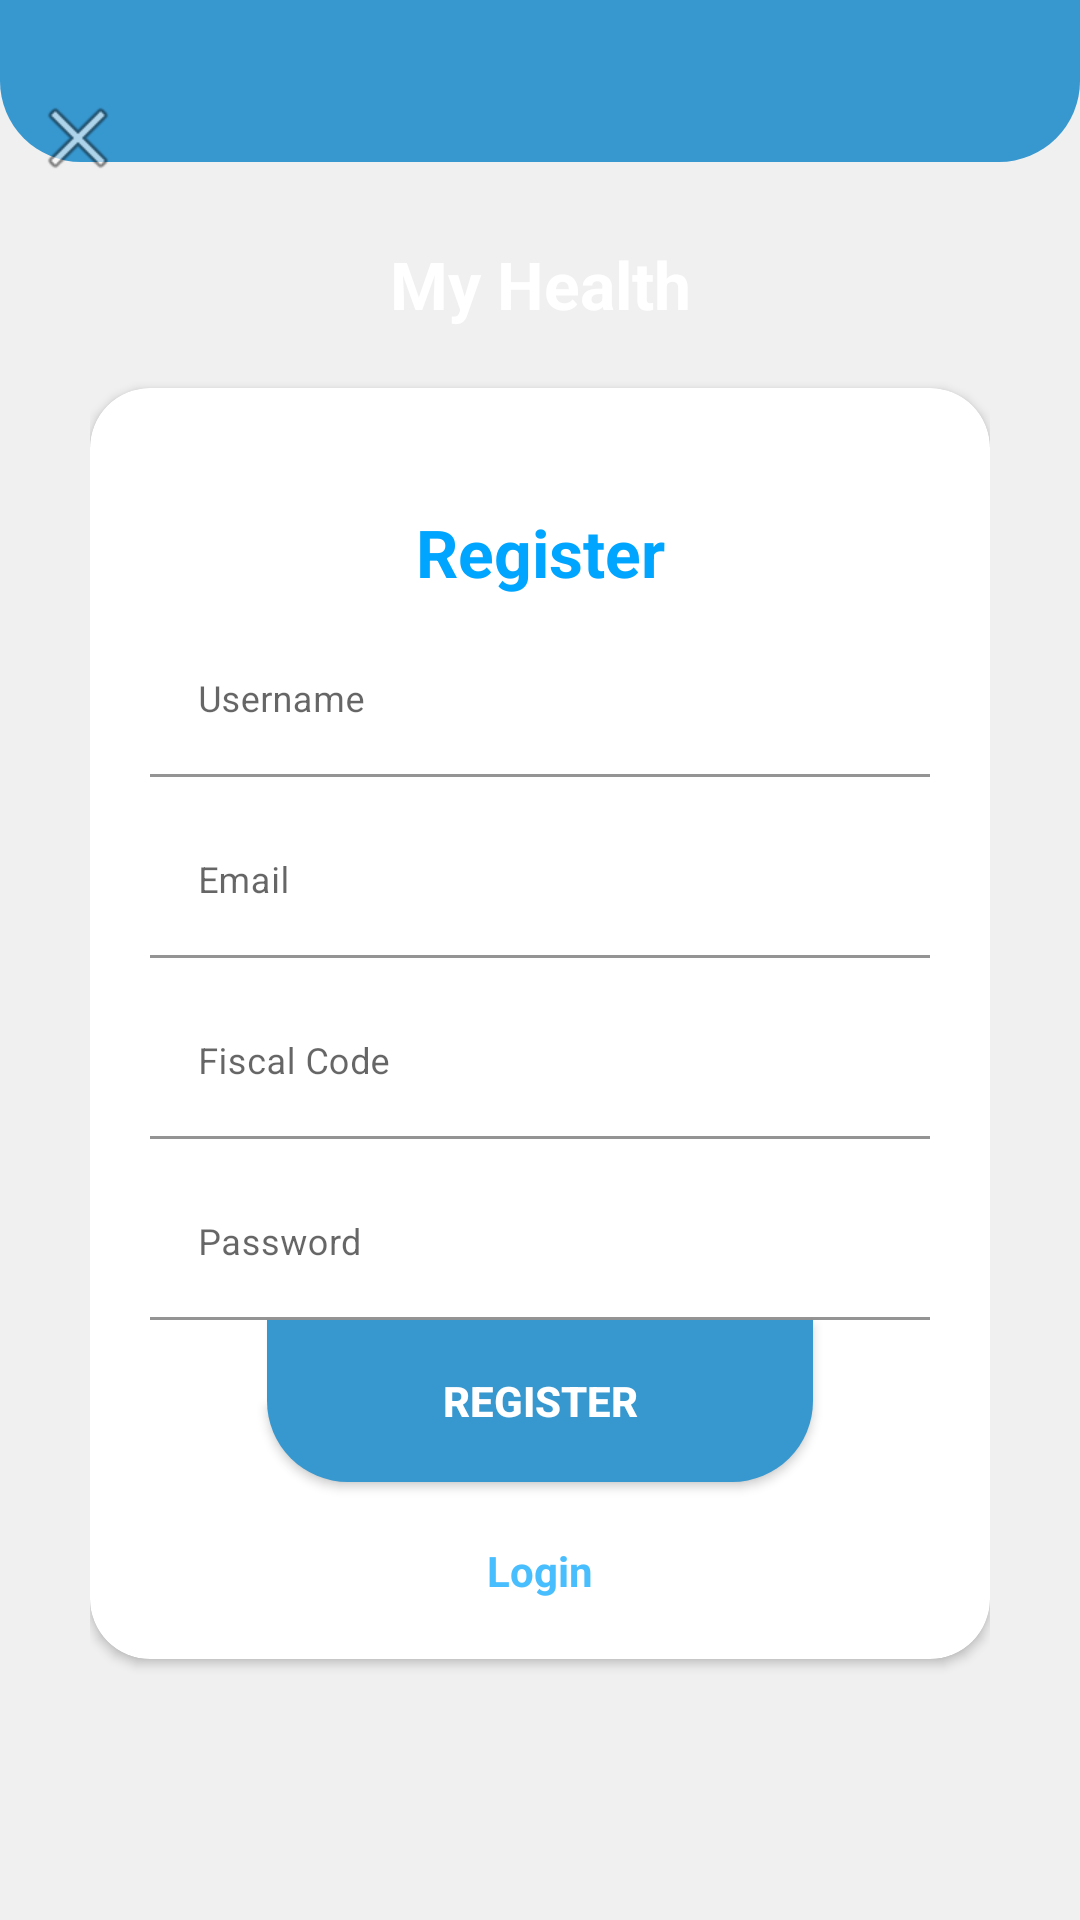

Icon click points for this 1080*1920 phone screenshot, format point (x, y):
close clear cancel: point (78, 138)
